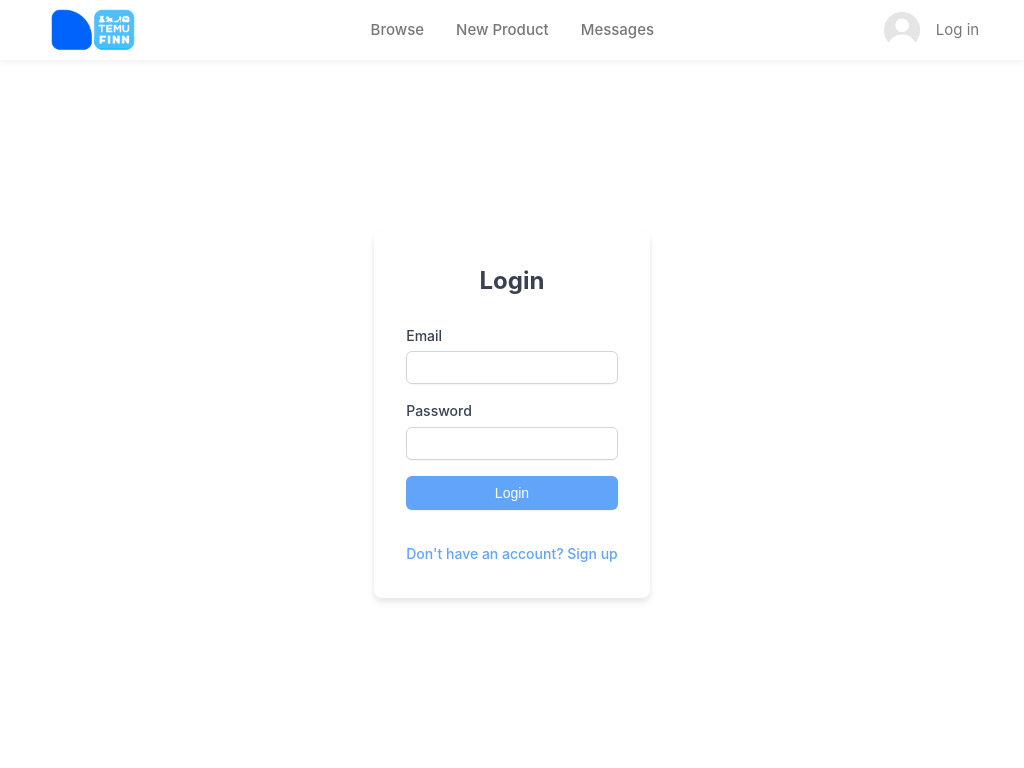
Test case: Login Flow › should successfully log in with valid credentials
In the field with test id "email-input": (512, 368) [406, 351, 618, 384], type "test@example.com"
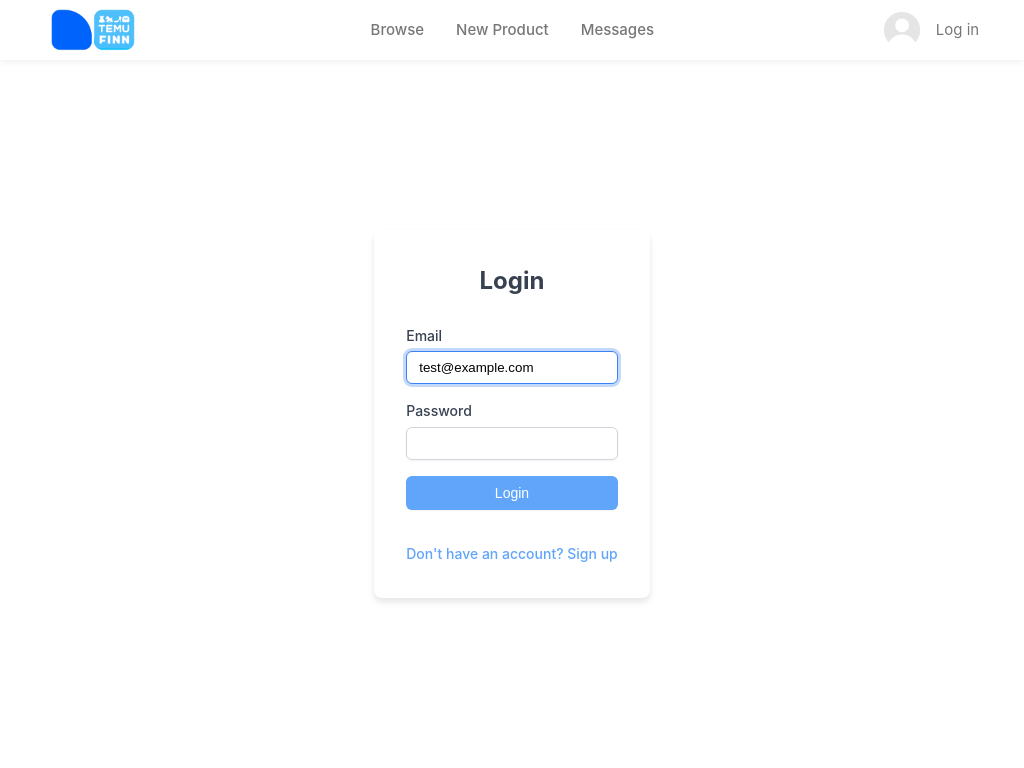
In the password field with test id "password-input": (512, 444) [406, 427, 618, 460], type "correctpassword"
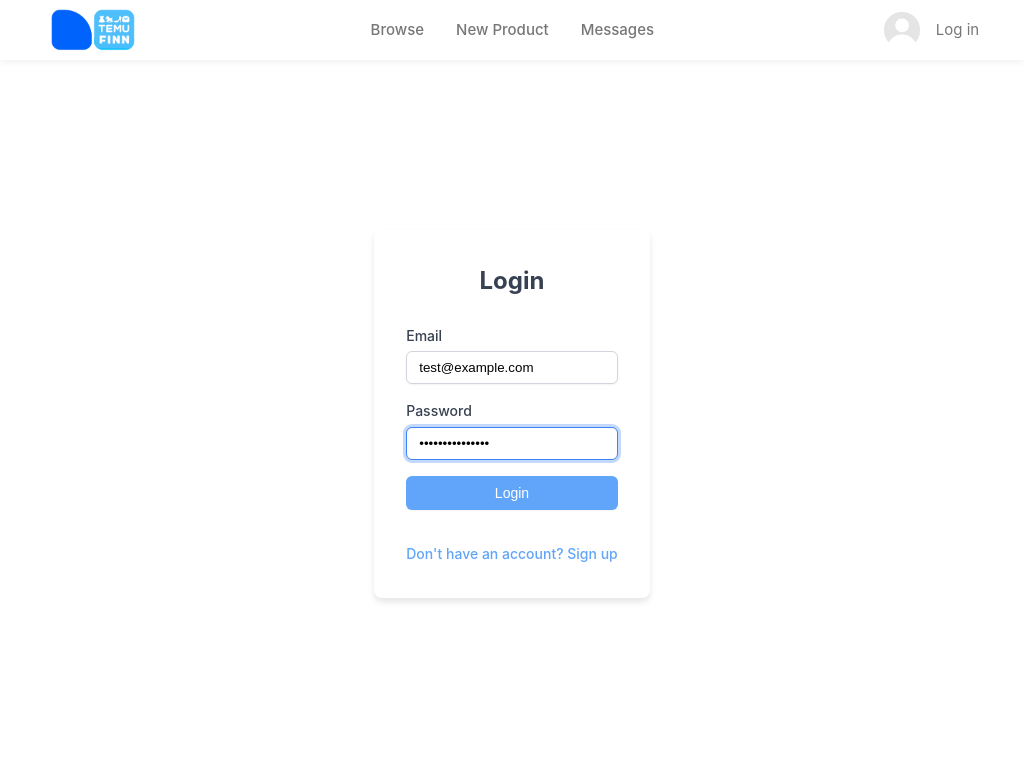
Click the button with test id "login-button": click(512, 493) [406, 476, 618, 510]
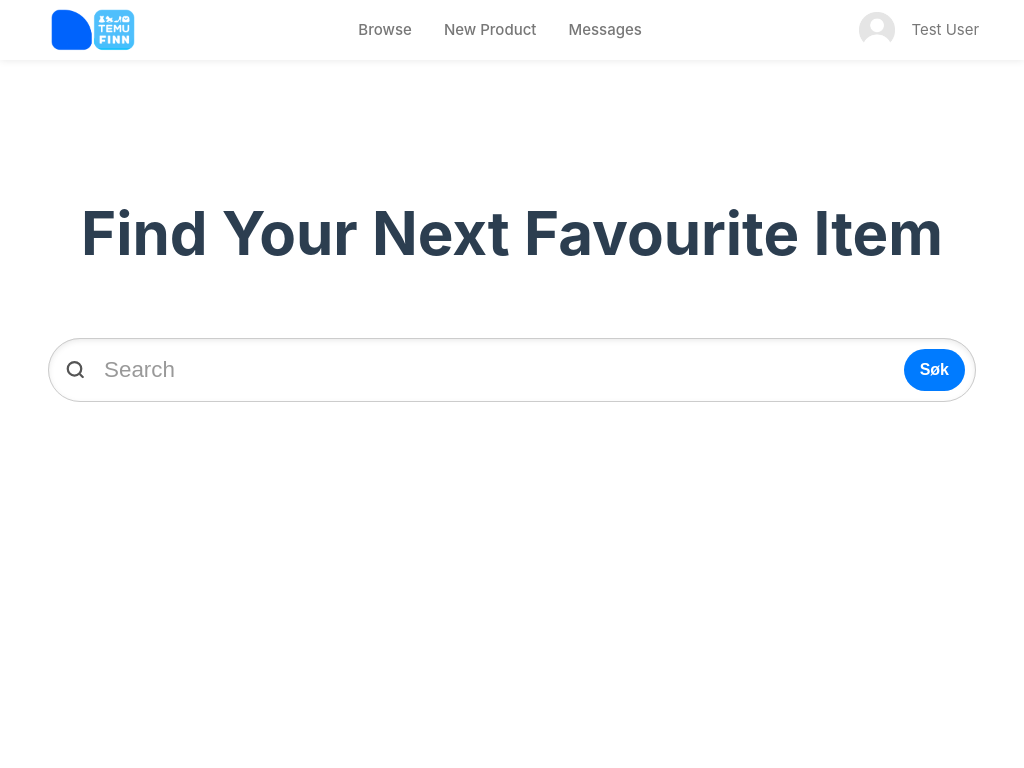
Result: the text with test id "profile-name" reads "Test User" at [911, 20, 979, 39]
